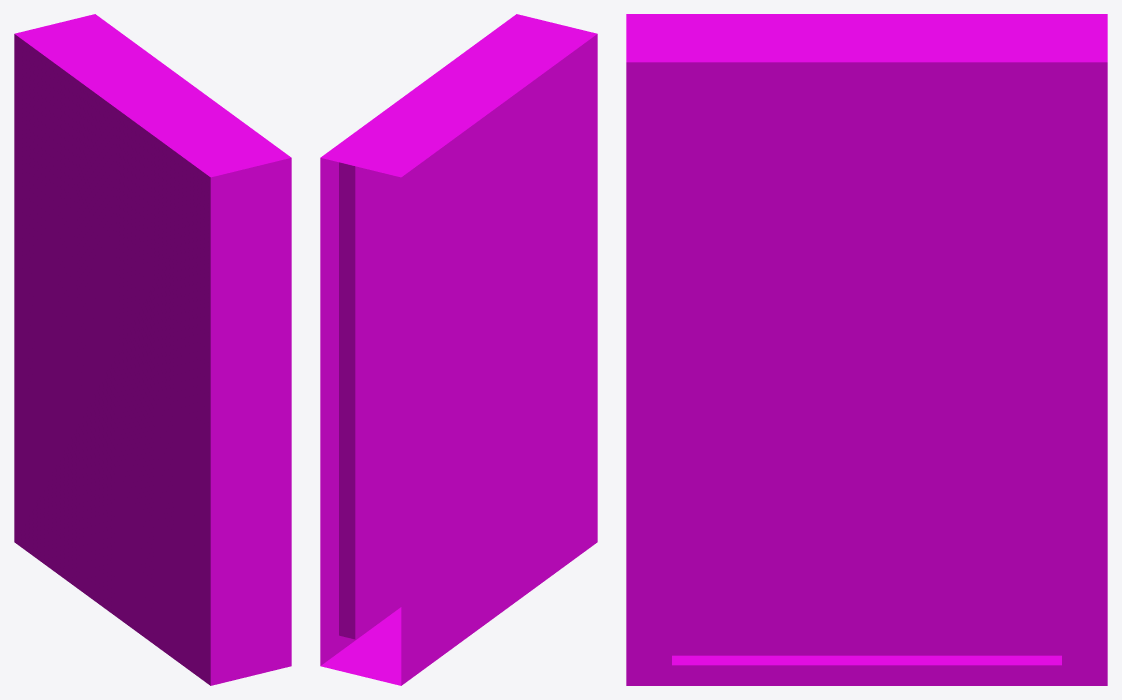
The model's file is bookcase.obj.
3 renders of one model, left to right at view 1: azimuth 30°, elevation 25°; view 2: azimuth 150°, elevation 25°; view 3: azimuth 270°, elevation 25°, orthographic. The views are drawn at different scales.
Visible parts, largest first — view 1: bookcase; view 2: bookcase; view 3: bookcase.
Boxes of the visible parts, <box> form: bookcase: <box>14,14,291,685</box>; bookcase: <box>320,14,597,685</box>; bookcase: <box>626,14,1107,685</box>.
Bounding box in the file's own units: 0.4 × 2.4 × 1.68.
